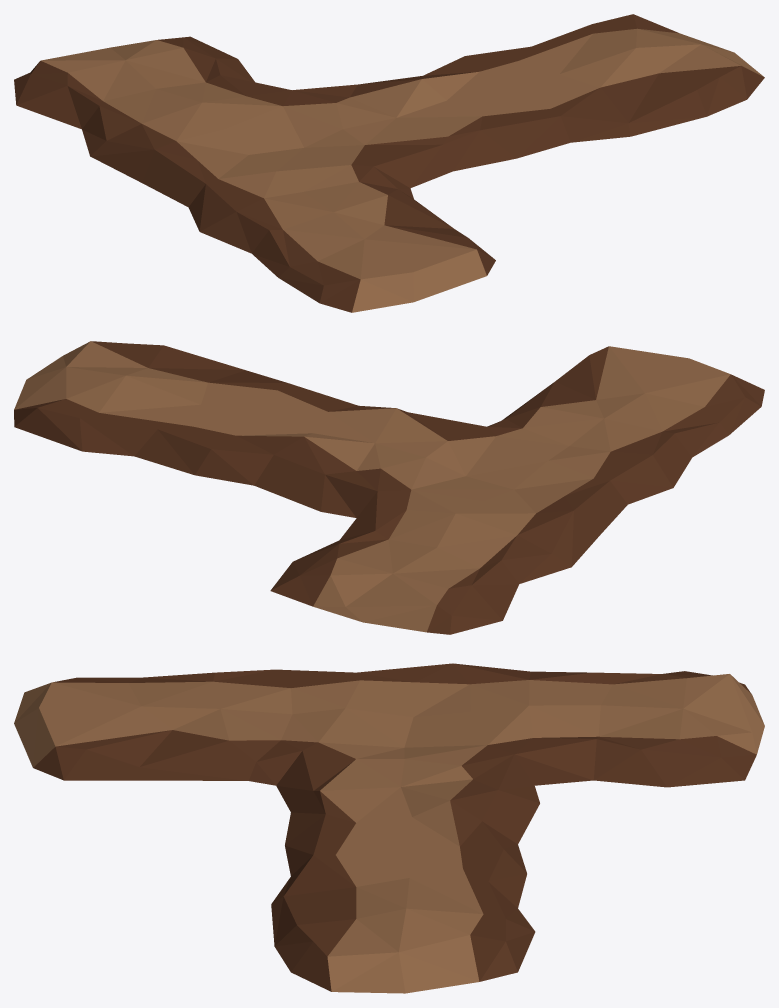
File: Road_ground_4 Asia.fbx
3 views of the same model, one above another, from view 1: azimuth 30°, elevation 25°; view 2: azimuth 150°, elevation 25°; view 3: azimuth 270°, elevation 25° (orthographic). The views are drawn at different scales.
Visible parts, largest first — view 1: Road_ground_4; view 2: Road_ground_4; view 3: Road_ground_4.
Boxes of the visible parts, box(x1,y1,x2,y2) form: Road_ground_4: box(14, 14, 764, 312); Road_ground_4: box(14, 341, 764, 634); Road_ground_4: box(14, 663, 764, 993).
Size of the model in its own units: 6.72 by 0.3282 by 6.61.
